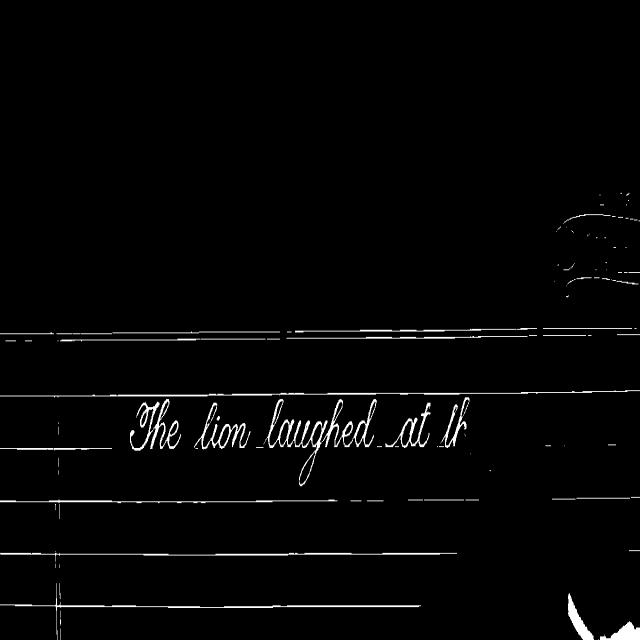hand: (568, 595, 592, 639), (600, 621, 640, 639)
noise: (0, 389, 640, 397), (286, 327, 640, 339), (0, 548, 457, 556), (0, 602, 420, 610), (0, 331, 280, 341), (0, 498, 338, 504), (0, 446, 112, 452), (550, 494, 640, 501), (54, 551, 61, 639), (406, 496, 480, 501), (54, 498, 60, 520), (628, 547, 640, 555), (56, 455, 60, 477), (56, 421, 58, 438)
not-noise: (256, 397, 431, 478), (130, 399, 180, 450), (196, 404, 251, 449), (438, 396, 470, 447)
page-marker: (556, 193, 640, 287)
